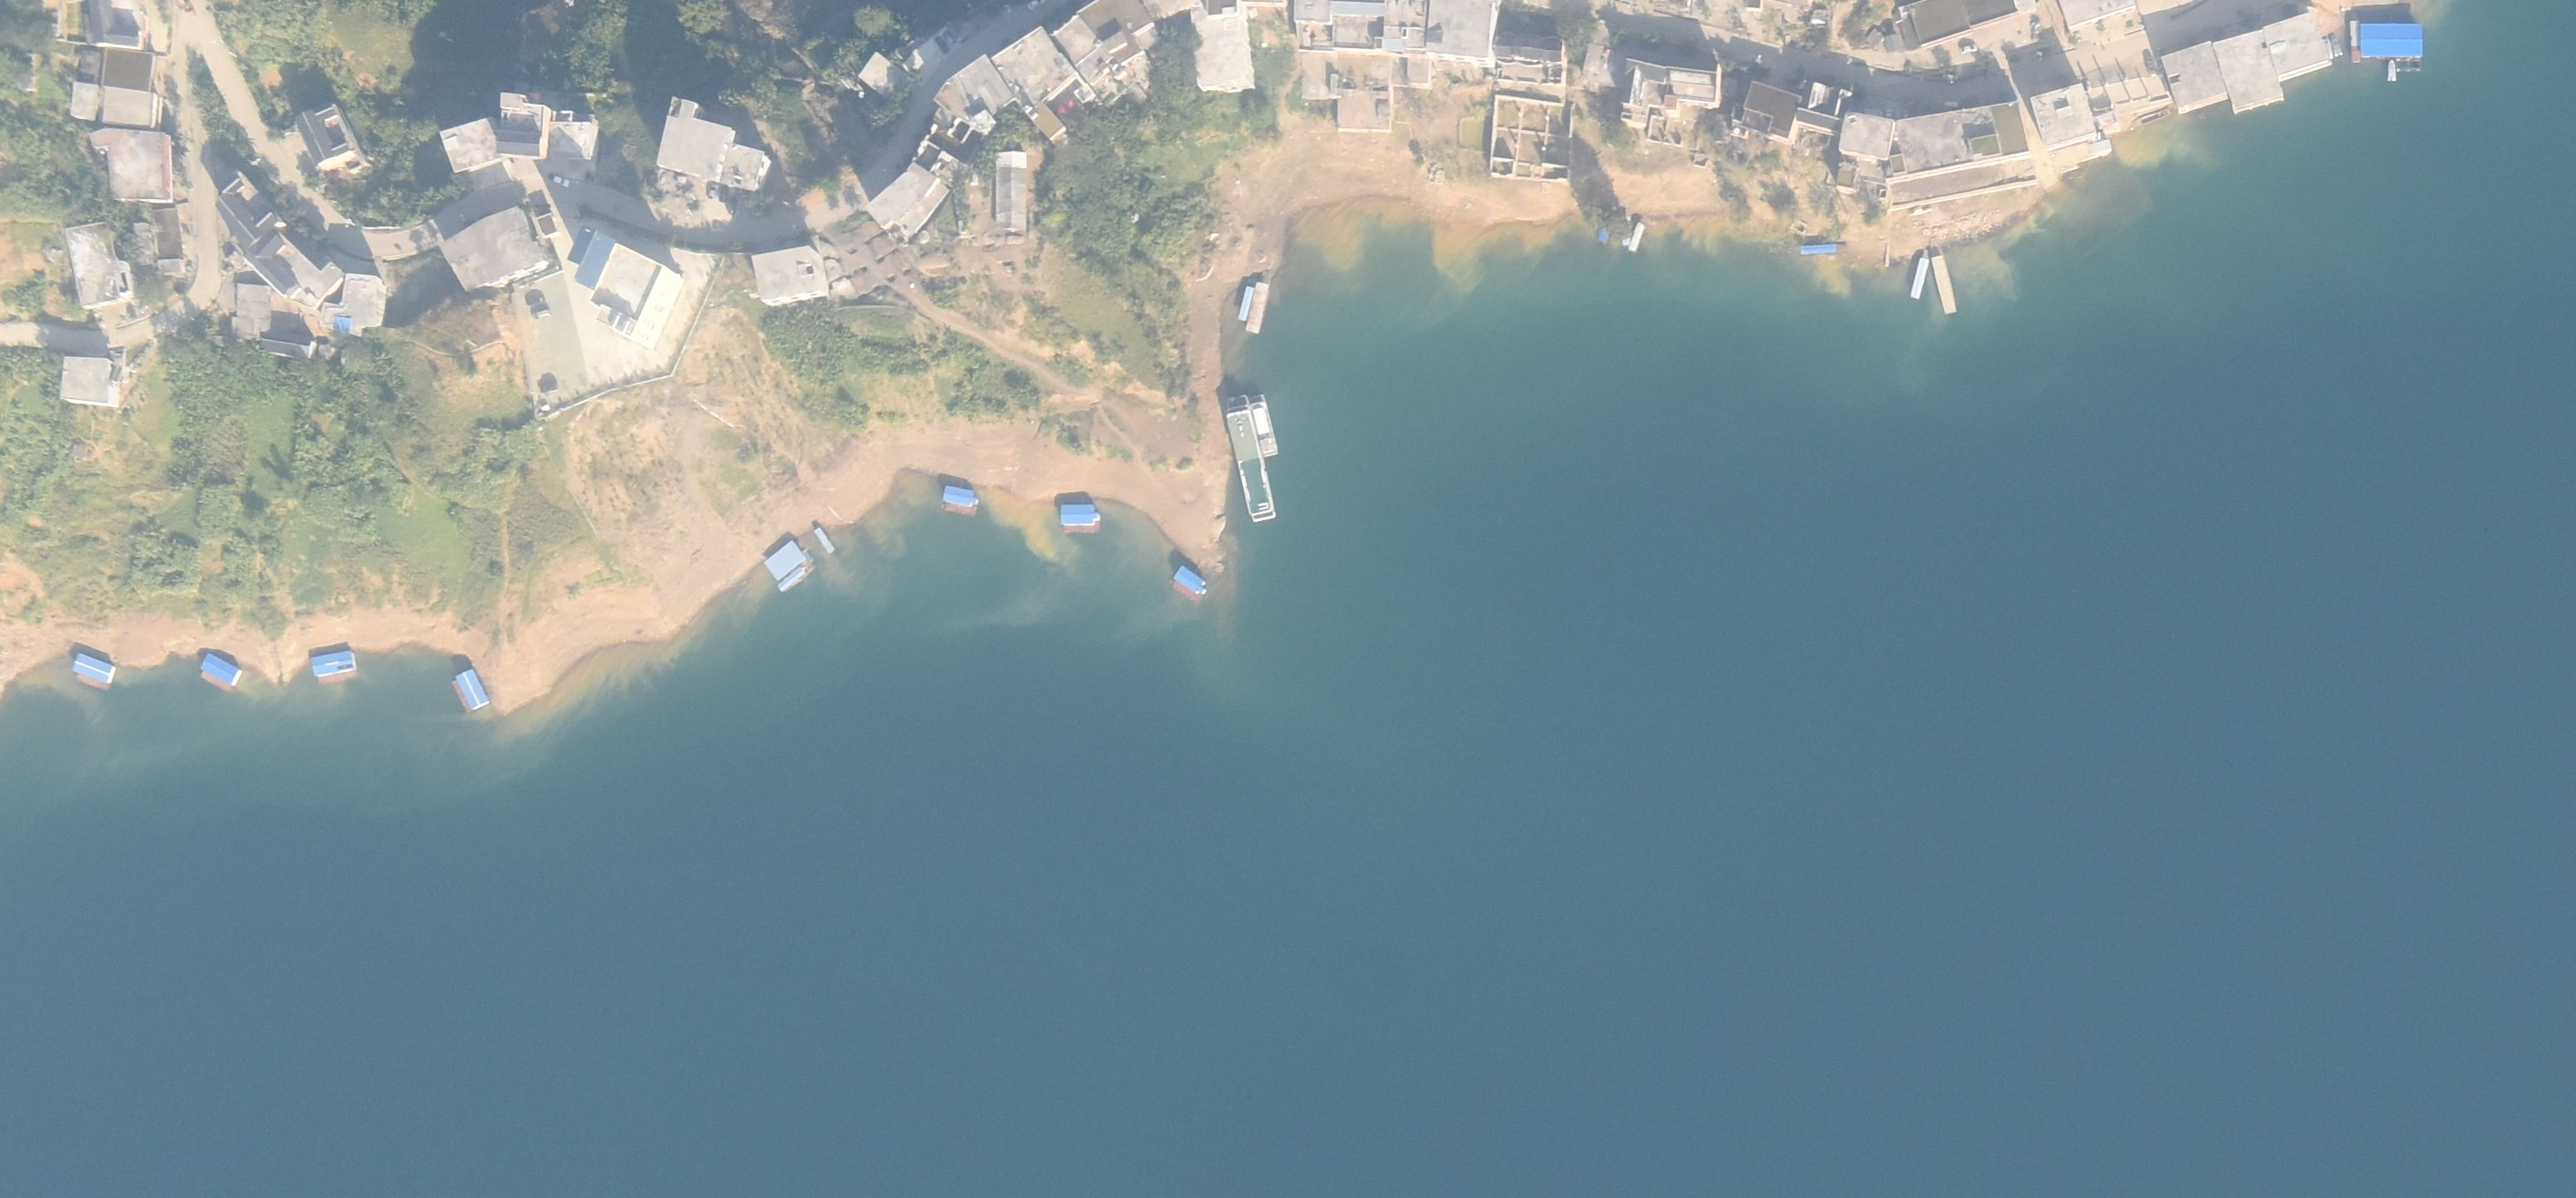building: (1294, 3, 1498, 135), (1840, 100, 2040, 211), (214, 172, 345, 304), (1052, 1, 1216, 99), (575, 227, 684, 351), (441, 199, 565, 295), (653, 93, 771, 191), (988, 24, 1078, 144), (1621, 56, 1721, 148), (73, 49, 162, 128), (229, 282, 316, 362), (1899, 1, 2038, 50), (860, 165, 950, 240), (930, 52, 1015, 131), (89, 131, 176, 201), (2213, 28, 2284, 112), (65, 222, 133, 307), (296, 103, 369, 173), (2160, 41, 2229, 114), (43, 1, 148, 48), (2030, 82, 2100, 152), (1497, 32, 1569, 100), (1191, 11, 1254, 87), (2263, 12, 2333, 79), (496, 90, 550, 165), (322, 274, 388, 334), (1731, 81, 1801, 138), (751, 242, 821, 298), (60, 355, 128, 409), (439, 109, 496, 173), (993, 148, 1029, 235), (145, 206, 186, 277), (857, 50, 913, 101), (552, 103, 597, 161), (2056, 1, 2140, 28), (1798, 105, 1841, 133), (19, 52, 43, 94), (1808, 81, 1834, 117), (1834, 87, 1854, 121), (1884, 33, 1904, 53), (1866, 28, 1883, 47)
prefabricated-house: (766, 540, 816, 589), (2360, 22, 2423, 60), (456, 667, 489, 714), (201, 648, 240, 688), (71, 654, 115, 686), (312, 650, 357, 680), (1057, 503, 1102, 533), (939, 485, 982, 514), (1171, 565, 1209, 596)
ship: (1228, 394, 1275, 525), (1926, 246, 1956, 314), (1250, 394, 1279, 458), (1247, 270, 1268, 334), (1911, 248, 1929, 298), (812, 525, 837, 555), (2348, 12, 2360, 65), (1798, 241, 1846, 255), (1238, 284, 1254, 321), (1630, 220, 1645, 255), (2329, 32, 2344, 59), (1622, 212, 1631, 249), (2386, 58, 2397, 84), (1599, 224, 1610, 243)
vehicle: (550, 173, 571, 188), (540, 378, 560, 394), (525, 290, 545, 303), (536, 308, 552, 321)
